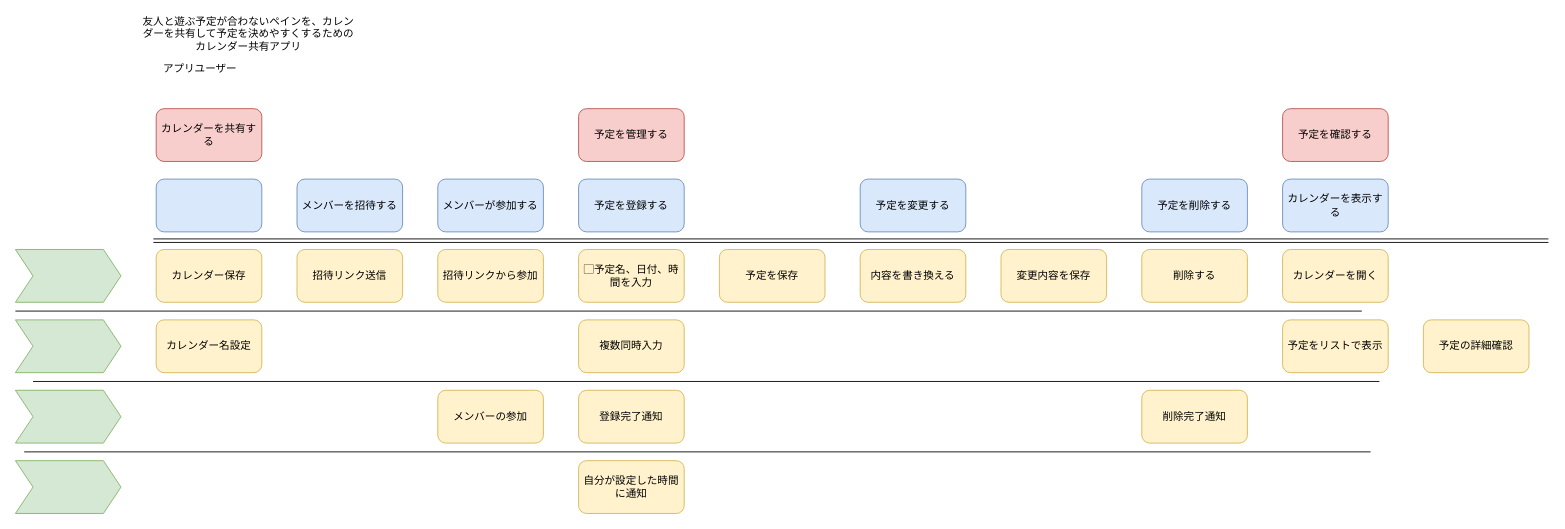
Image size: 1565x529. Some labels were removed from this diagram. The shapes that lost their labels are listed below. From the top down, each one's centre as x and y in pixels, then its label:
the point at 208,205: ✅カレンダーを作成する
the point at 68,275: ウォーキングスケルトン
the point at 68,346: タスクリスト
the point at 68,416: 通知機能
the point at 68,486: リマインダー設定
